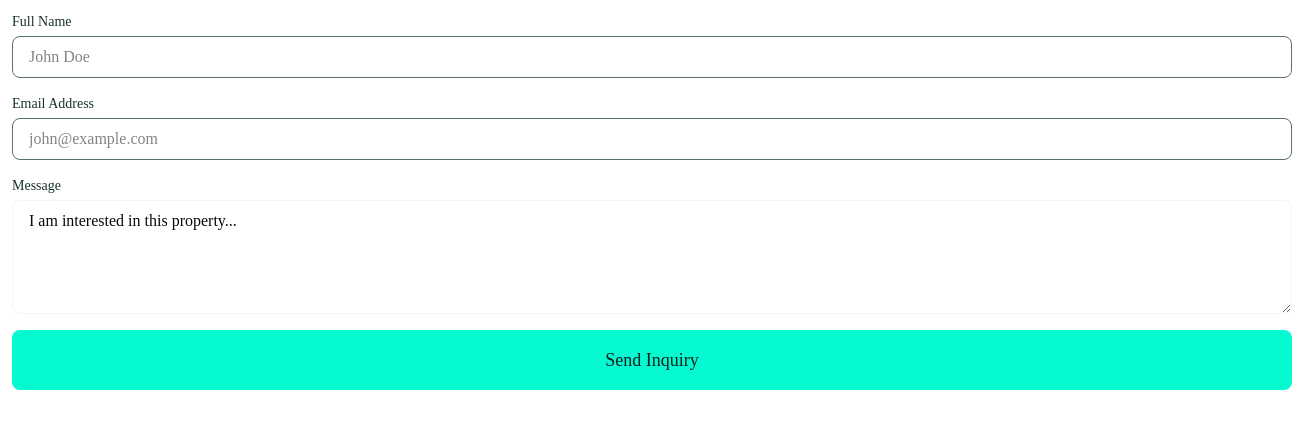
ContactForm › shows error when submitting empty fields
Click the button "Send Inquiry" at (652, 360), box [12,330,1292,390]
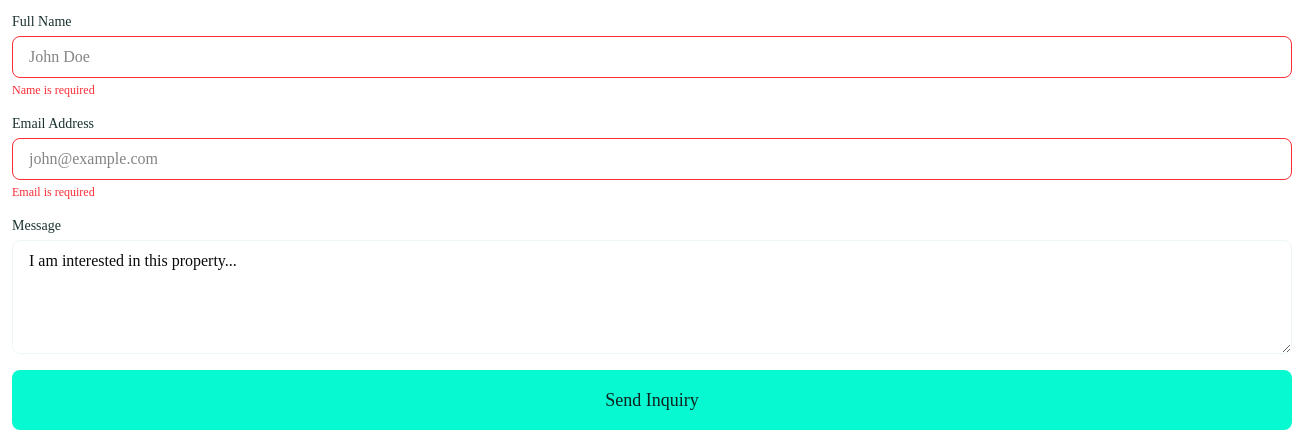
Expected: the text "Name is required" is shown, [12,83,95,97]
